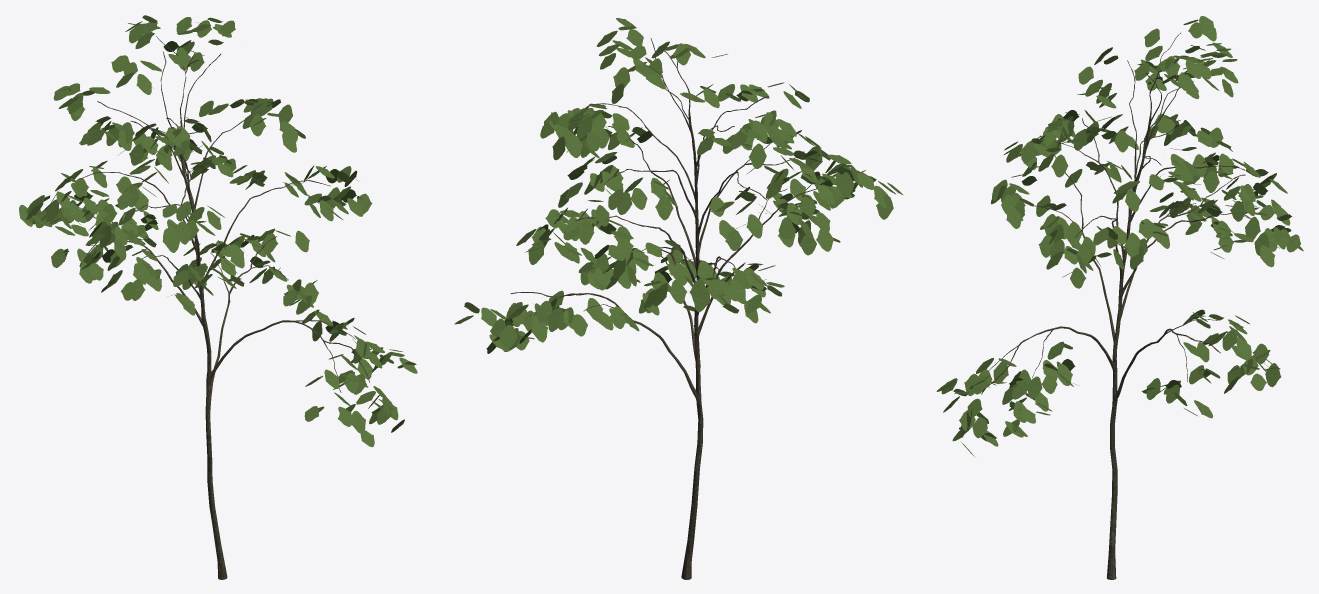
Rendered from bush_01_lod2.glb.
3 views of the same model, side by side, from view 1: azimuth 30°, elevation 25°; view 2: azimuth 150°, elevation 25°; view 3: azimuth 270°, elevation 25° (orthographic). The views are drawn at different scales.
Parts seen in each view (by area): view 1: AE_15TH_FOREST_BUSH_01_LOD2; view 2: AE_15TH_FOREST_BUSH_01_LOD2; view 3: AE_15TH_FOREST_BUSH_01_LOD2.
Part boxes in pixels (x1,y1,x2,y2): AE_15TH_FOREST_BUSH_01_LOD2: (19,15,417,579); AE_15TH_FOREST_BUSH_01_LOD2: (454,18,902,579); AE_15TH_FOREST_BUSH_01_LOD2: (936,16,1303,579).
Size of the model in its own units: 1.55 by 2.6 by 1.61.
2 materials, 2 textured.
